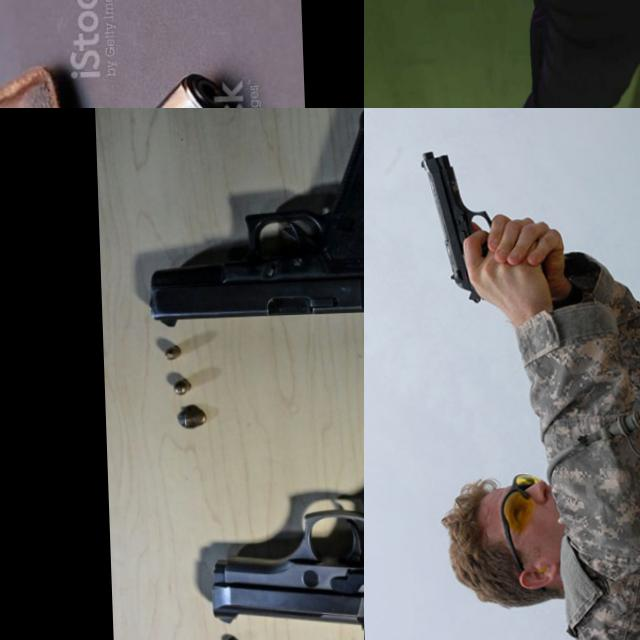handgun: (139, 108, 364, 330), (196, 411, 364, 640), (418, 147, 496, 304), (0, 65, 274, 108)
